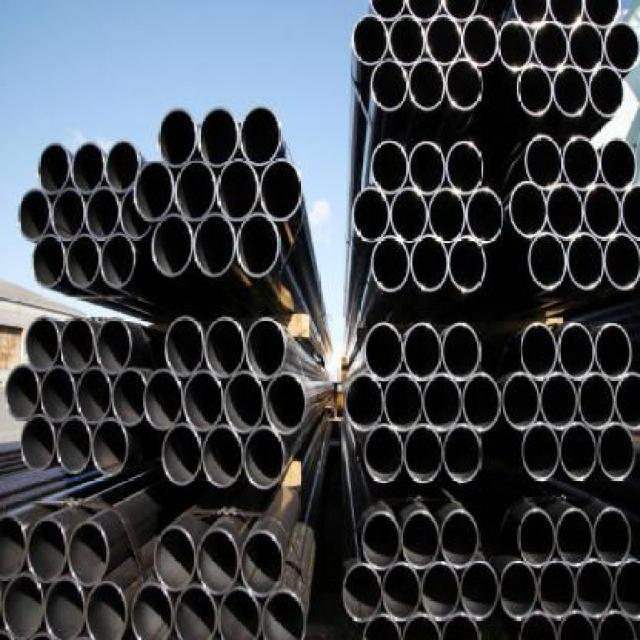pipe: (197, 528, 240, 595), (240, 531, 283, 598), (237, 212, 280, 278), (2, 574, 46, 638), (154, 526, 196, 592), (260, 159, 303, 222), (68, 520, 109, 586), (26, 519, 67, 584), (194, 214, 236, 277), (243, 426, 284, 490), (45, 576, 86, 640), (217, 159, 260, 220), (152, 214, 193, 277), (203, 425, 243, 489), (85, 580, 129, 638), (245, 318, 286, 380), (223, 372, 264, 434), (163, 423, 203, 486), (238, 106, 280, 166), (175, 160, 216, 221), (183, 371, 224, 432), (197, 106, 238, 167), (143, 369, 183, 431), (134, 160, 174, 221), (174, 583, 218, 638), (267, 374, 306, 436), (165, 317, 205, 377), (205, 317, 244, 378), (131, 583, 174, 638), (362, 512, 402, 570), (443, 425, 482, 484), (383, 563, 422, 622), (342, 563, 381, 622), (157, 108, 196, 167), (217, 586, 261, 638), (423, 374, 462, 432), (463, 374, 502, 432), (363, 425, 402, 483), (262, 590, 308, 639), (405, 323, 443, 382), (594, 508, 632, 567), (440, 510, 478, 569), (402, 511, 440, 570), (500, 560, 538, 619), (460, 560, 498, 619), (385, 374, 423, 432), (345, 374, 383, 432), (405, 426, 443, 484), (538, 560, 576, 618), (422, 562, 460, 620), (449, 236, 488, 292), (365, 322, 402, 381), (519, 509, 556, 568), (576, 559, 613, 618), (522, 423, 560, 480), (411, 234, 448, 292), (503, 372, 540, 430), (540, 372, 577, 430), (93, 418, 130, 476), (557, 508, 594, 566), (528, 233, 566, 289), (520, 323, 558, 379), (112, 368, 148, 427), (509, 182, 546, 239), (568, 233, 605, 290), (96, 317, 133, 374), (443, 323, 480, 380), (579, 373, 616, 430), (559, 423, 596, 480), (599, 423, 636, 480), (446, 140, 484, 195), (525, 134, 562, 190), (371, 236, 408, 292), (557, 323, 594, 379), (352, 186, 390, 240), (596, 323, 632, 380), (373, 140, 410, 195), (546, 185, 583, 240), (585, 185, 622, 240), (466, 188, 503, 243), (40, 365, 76, 421), (409, 142, 446, 196), (391, 188, 428, 242), (21, 414, 56, 471), (57, 415, 92, 472), (563, 135, 599, 190), (60, 317, 96, 372), (605, 232, 639, 290), (600, 139, 637, 192), (100, 232, 136, 286), (5, 365, 40, 420), (446, 58, 483, 110), (409, 58, 446, 110), (371, 60, 408, 112), (554, 65, 590, 118), (25, 316, 59, 372), (105, 140, 140, 194), (65, 234, 100, 288), (353, 16, 390, 67), (86, 186, 120, 240), (517, 65, 553, 116), (499, 20, 534, 72), (426, 16, 462, 66), (534, 22, 570, 72), (589, 66, 624, 117), (463, 16, 498, 66), (569, 22, 604, 72), (605, 23, 640, 73), (71, 142, 104, 195), (19, 188, 52, 241), (53, 188, 86, 241), (0, 514, 26, 580), (389, 16, 424, 65), (32, 234, 64, 287), (37, 143, 70, 194), (614, 557, 640, 620), (120, 191, 153, 240), (616, 373, 640, 432), (596, 611, 637, 640), (583, 0, 622, 29), (558, 611, 596, 640), (548, 0, 586, 29), (440, 613, 480, 640), (519, 611, 556, 640), (402, 614, 442, 640), (362, 614, 402, 640), (622, 185, 640, 241), (514, 0, 550, 26), (442, 0, 480, 23), (406, 0, 443, 23), (369, 0, 406, 22)
